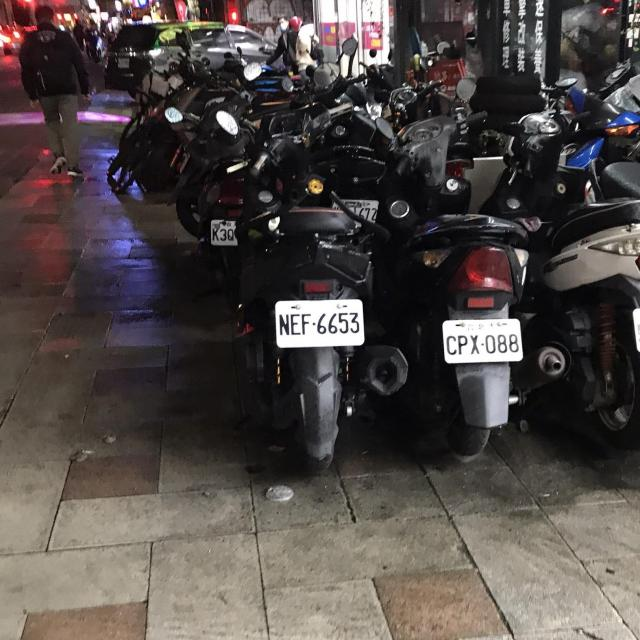W: (270, 295, 368, 349), (436, 314, 527, 365)
